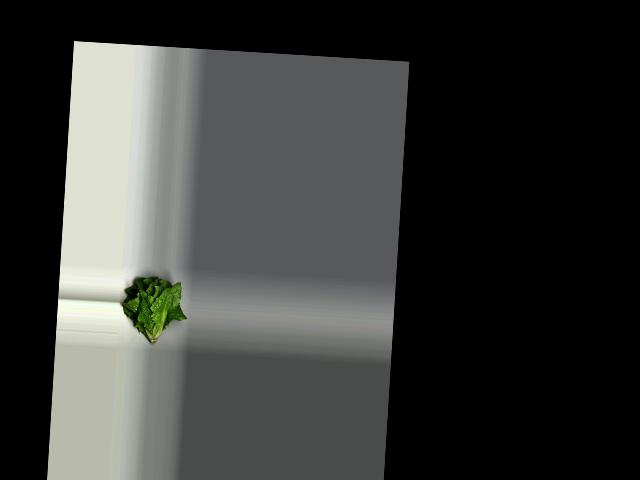lettuce: (115, 271, 187, 350)
